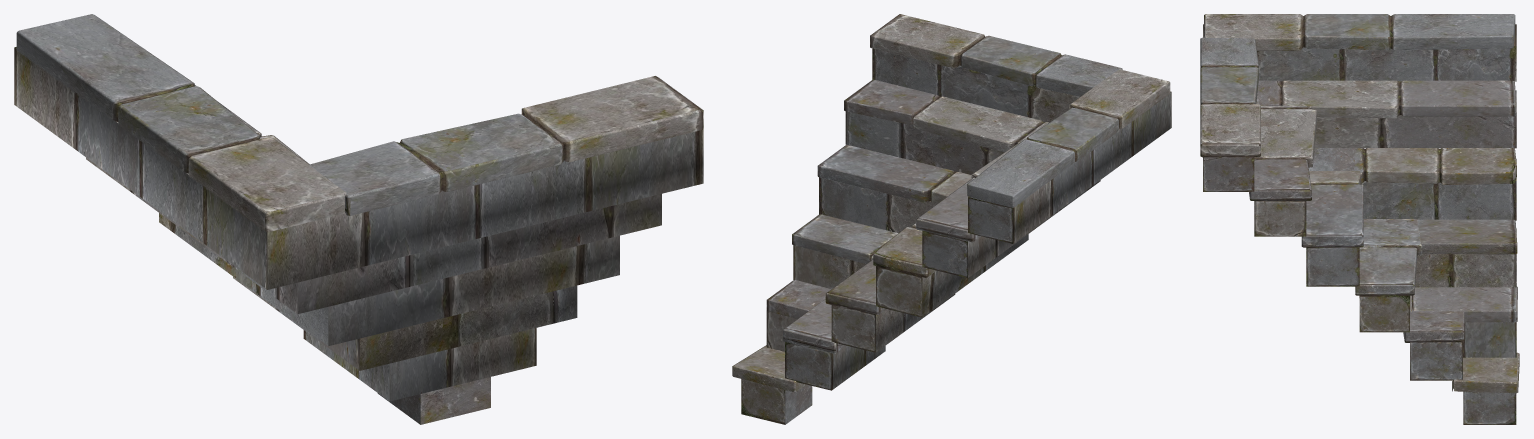
3 views of the same model, side by side, from view 1: azimuth 30°, elevation 25°; view 2: azimuth 150°, elevation 25°; view 3: azimuth 270°, elevation 25° (orthographic). The views are drawn at different scales.
Visible parts, largest first — view 1: SM_BB_T3_Stairs_InnerCorner_LOD0; view 2: SM_BB_T3_Stairs_InnerCorner_LOD0; view 3: SM_BB_T3_Stairs_InnerCorner_LOD0.
Boxes of the visible parts, x1,y1,x2,y2 form: SM_BB_T3_Stairs_InnerCorner_LOD0: (14,14,703,424); SM_BB_T3_Stairs_InnerCorner_LOD0: (732,14,1171,424); SM_BB_T3_Stairs_InnerCorner_LOD0: (1200,14,1519,424).
Bounding box in the file's own units: 1.56 × 1.5 × 1.55.
1 material, 1 textured.
